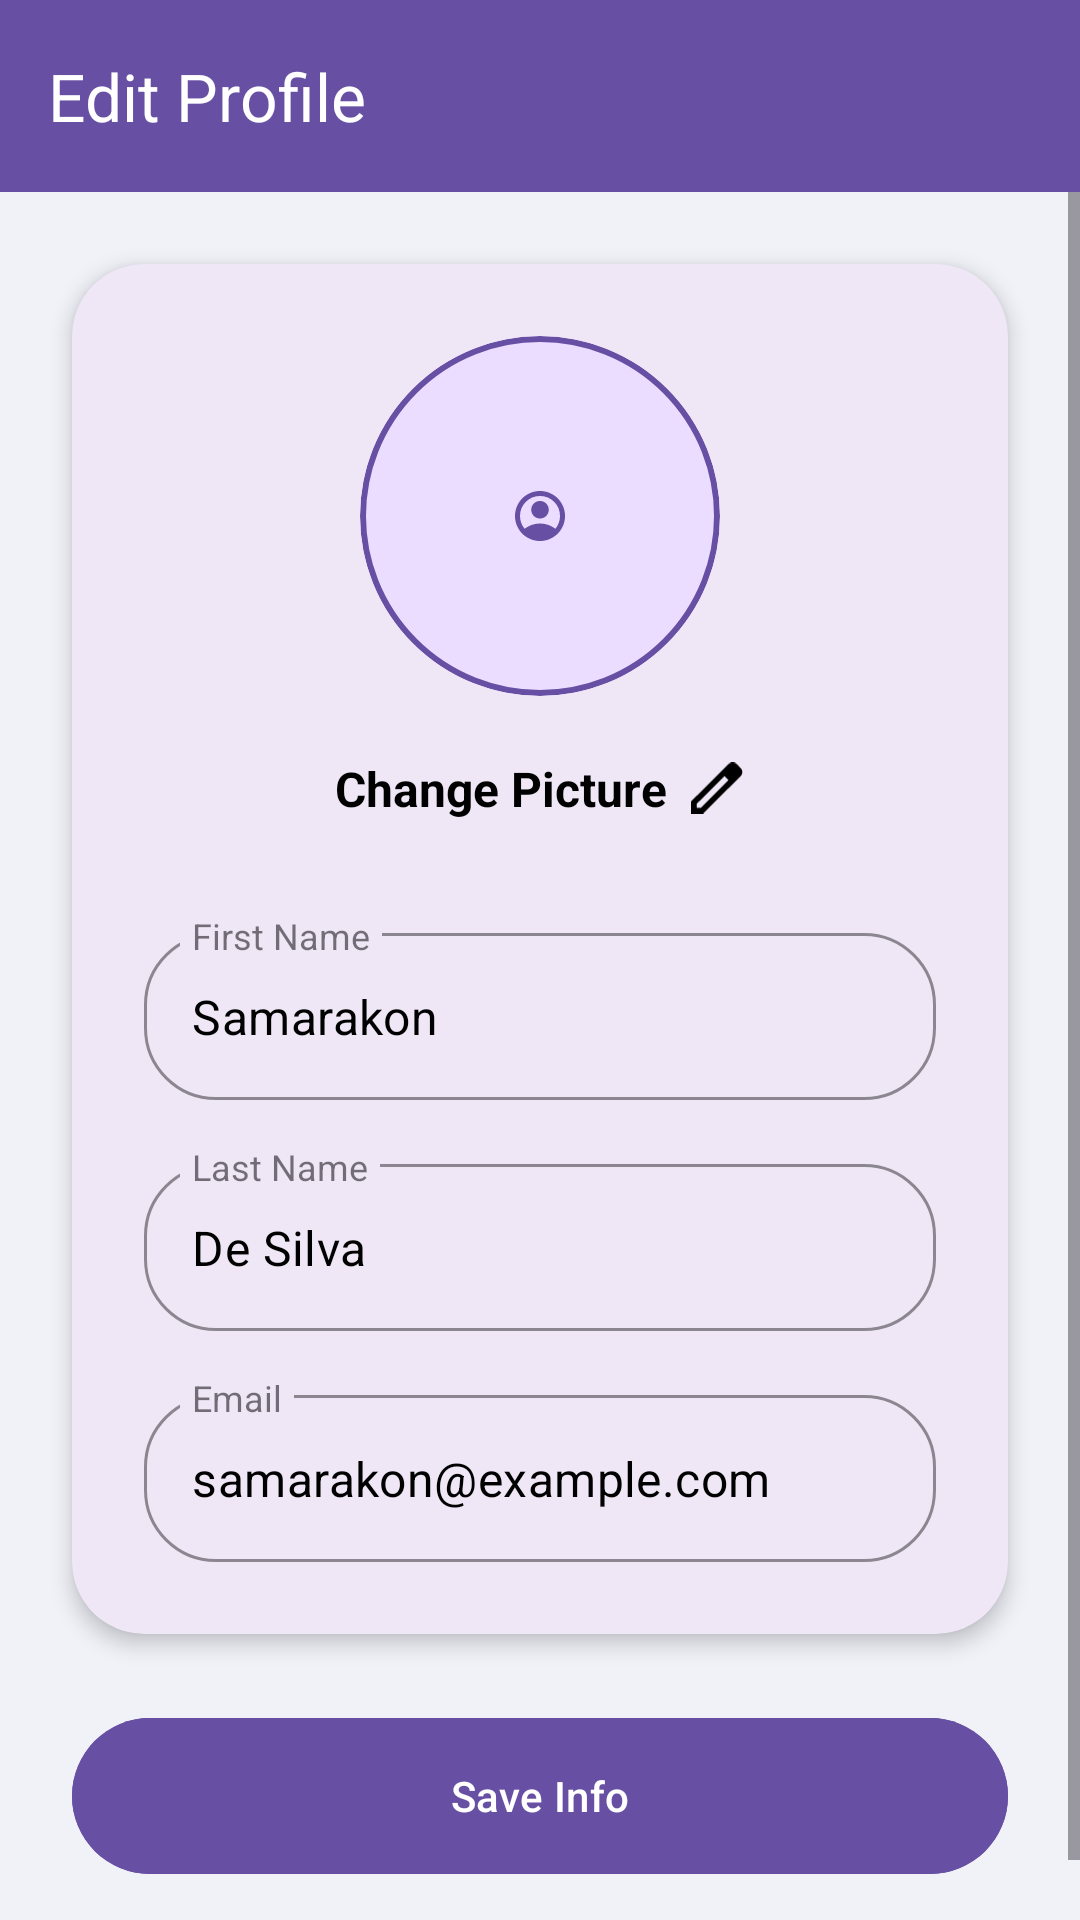

Screen size 1080 x 1920. Icon name, then its box in pixels as (x1, y1, x2, y2):
edit custom: (691, 762, 743, 814)
profile custom: (360, 336, 720, 696)
